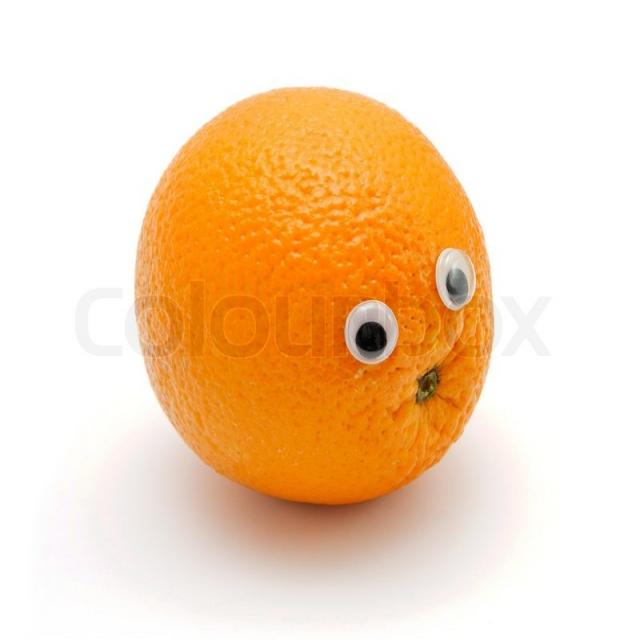orange: (130, 92, 515, 515)
